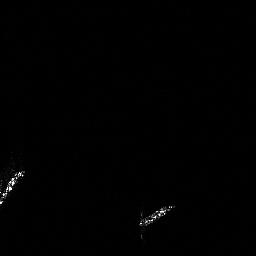ship: (134, 199, 179, 231), (1, 166, 30, 208)
